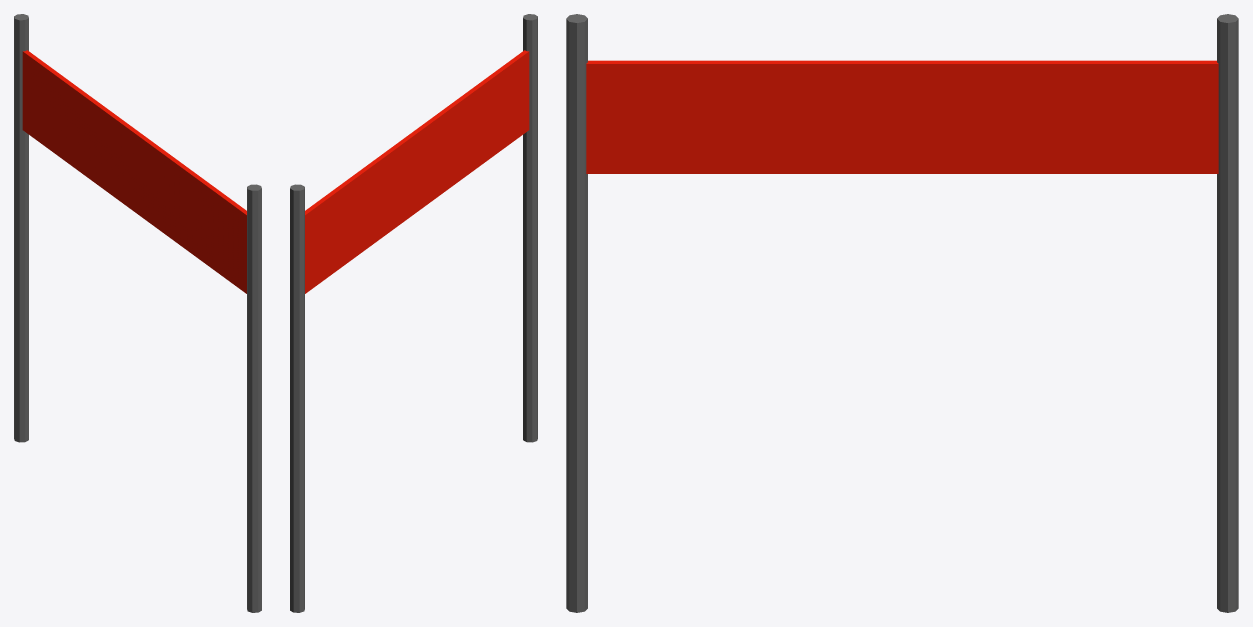
File: flag.glb
3 views of the same model, side by side, from view 1: azimuth 30°, elevation 25°; view 2: azimuth 150°, elevation 25°; view 3: azimuth 270°, elevation 25° (orthographic). The views are drawn at different scales.
Visible parts, largest first — view 1: Cube, Cylinder, Cylinder.001; view 2: Cube, Cylinder.001, Cylinder; view 3: Cube, Cylinder, Cylinder.001.
Part boxes in pixels (left/top/right/bottom): Cube: left=22, top=50, right=246, bottom=293; Cylinder: left=247, top=184, right=261, bottom=612; Cylinder.001: left=14, top=14, right=28, bottom=442; Cube: left=305, top=50, right=529, bottom=293; Cylinder.001: left=290, top=184, right=304, bottom=612; Cylinder: left=523, top=14, right=537, bottom=442; Cube: left=586, top=60, right=1218, bottom=173; Cylinder: left=566, top=14, right=587, bottom=612; Cylinder.001: left=1217, top=14, right=1238, bottom=612.
Size of the model in its own units: 0.1 by 3 by 3.1.
